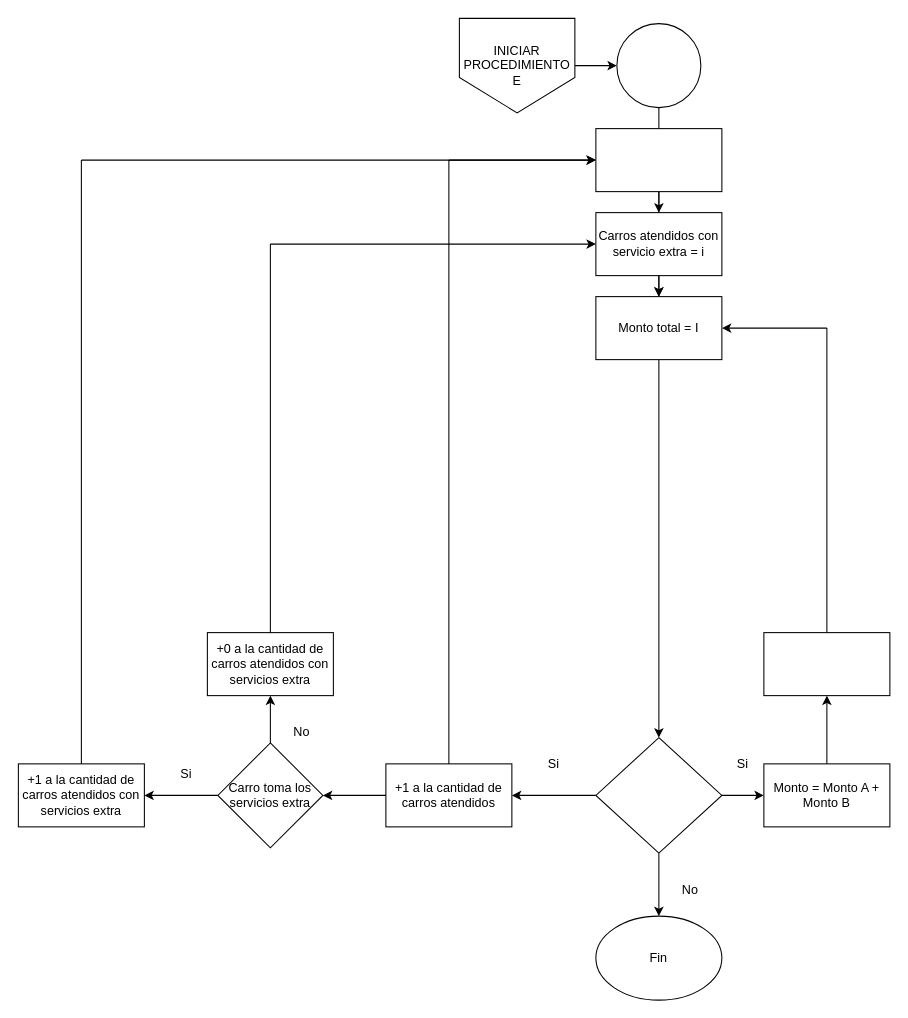
This 908x1018 diagram has some shape labels left out. The shapes that lost their labels are listed below. From the top down, each one's centre as x and y in pixels, then its label:
At (658,65): "INICIO".
At (658,160): "Carros atendidos = i".
At (826,664): "+Monto".
At (658,795): "Se llevan a cabo los procedimientos anteriores".
